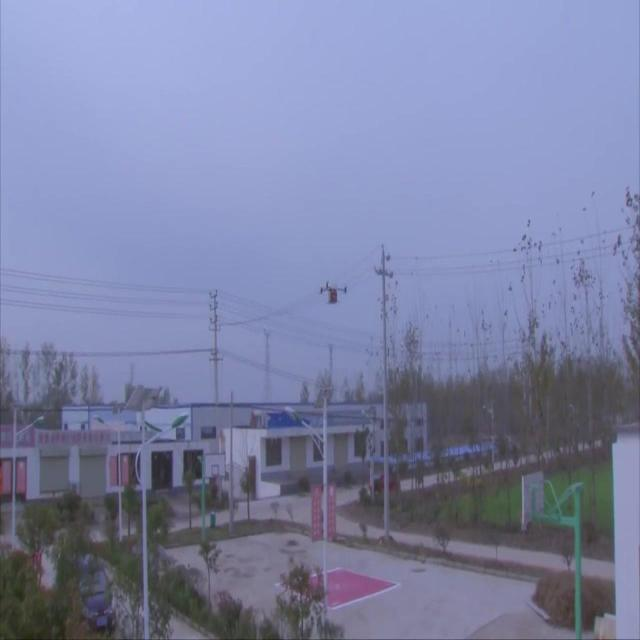drone: (318, 276, 347, 310)
